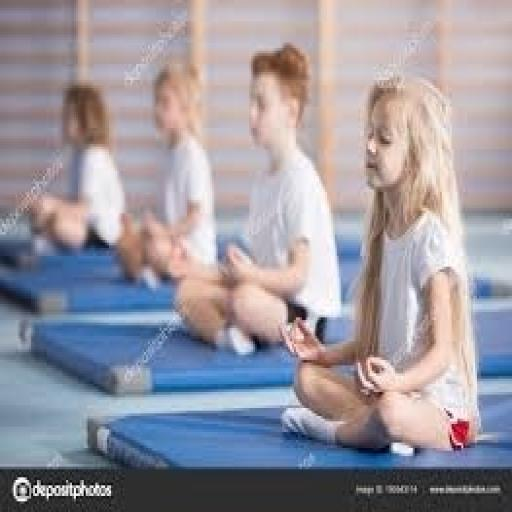sitting: (276, 67, 483, 456), (160, 40, 342, 357), (113, 59, 218, 288), (20, 80, 128, 256)
